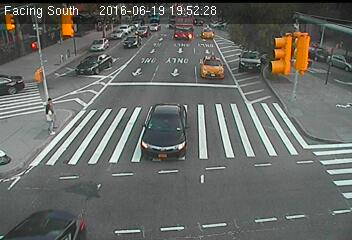neg: (155, 102, 188, 146), (183, 22, 201, 46)
pos: (30, 91, 66, 139)
